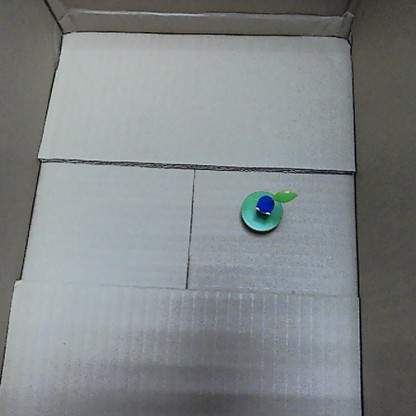leafairy: (235, 183, 299, 236)
